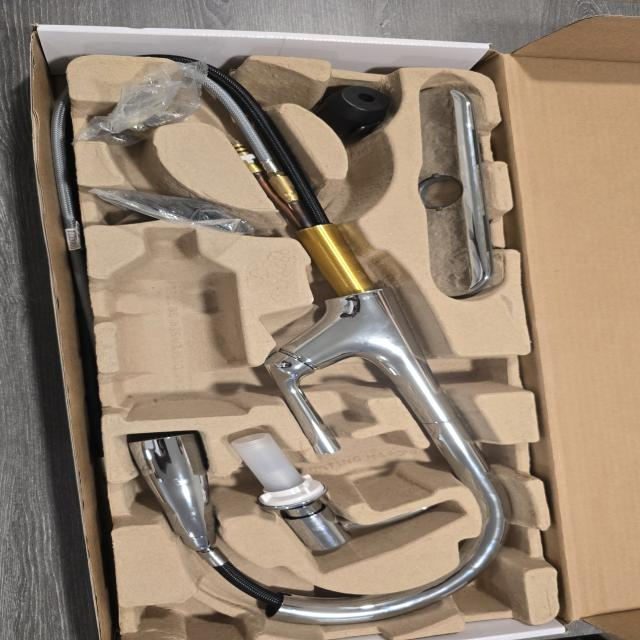1o: (125, 58, 511, 624)
2: (230, 431, 432, 553)
3m: (110, 224, 249, 421)
4: (415, 87, 491, 298)
5: (314, 84, 391, 144)
6: (69, 57, 210, 145)
7: (84, 188, 258, 235)
